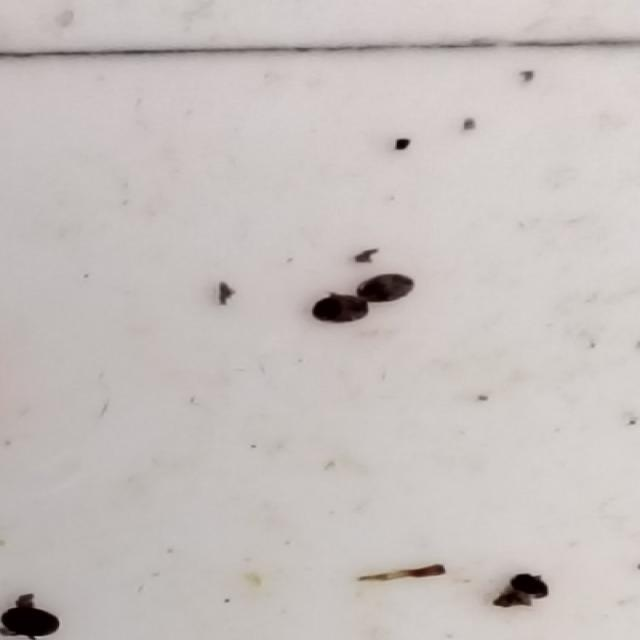varroa: (353, 276, 417, 307), (310, 295, 371, 325), (3, 609, 64, 639), (507, 571, 557, 599)
